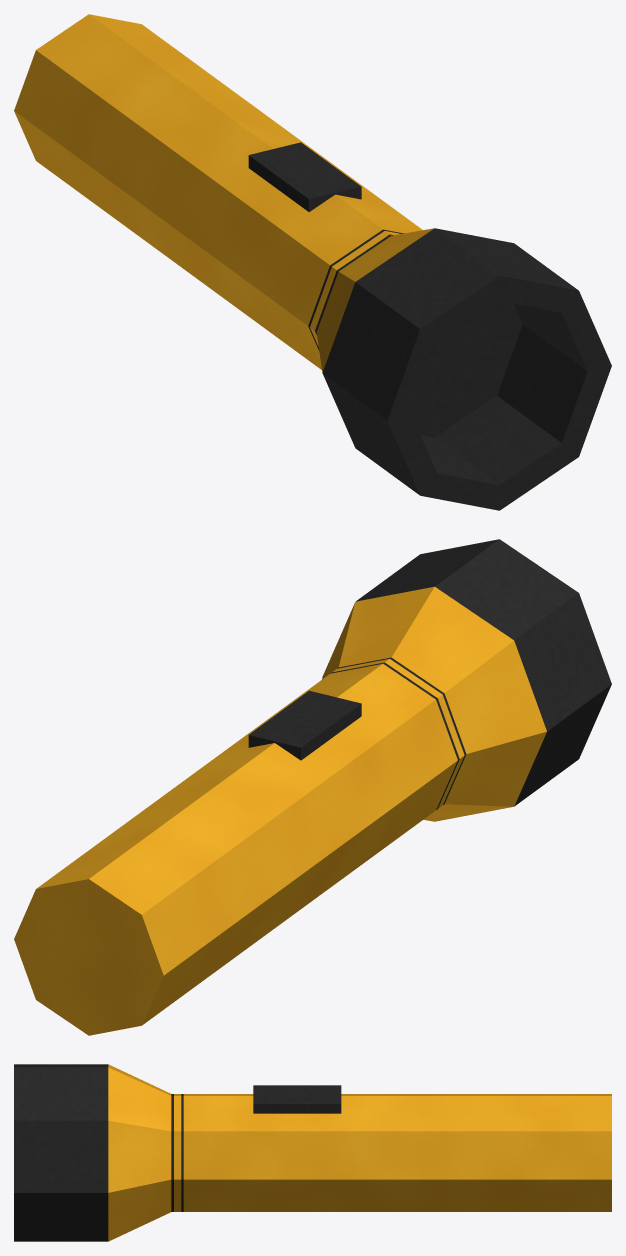
The model's file is Flashlight.fbx.
3 views of the same model, one above another, from view 1: azimuth 30°, elevation 25°; view 2: azimuth 150°, elevation 25°; view 3: azimuth 270°, elevation 25° (orthographic). The views are drawn at different scales.
Parts seen in each view (by area): view 1: Flashlight; view 2: Flashlight; view 3: Flashlight.
Boxes of the visible parts, box(x1,y1,x2,y2) form: Flashlight: box(14, 14, 611, 510); Flashlight: box(14, 539, 611, 1035); Flashlight: box(14, 1064, 611, 1241).
Size of the model in its own units: 18.9 by 18.9 by 59.85.
Materials: 2 (2 with a texture image).
